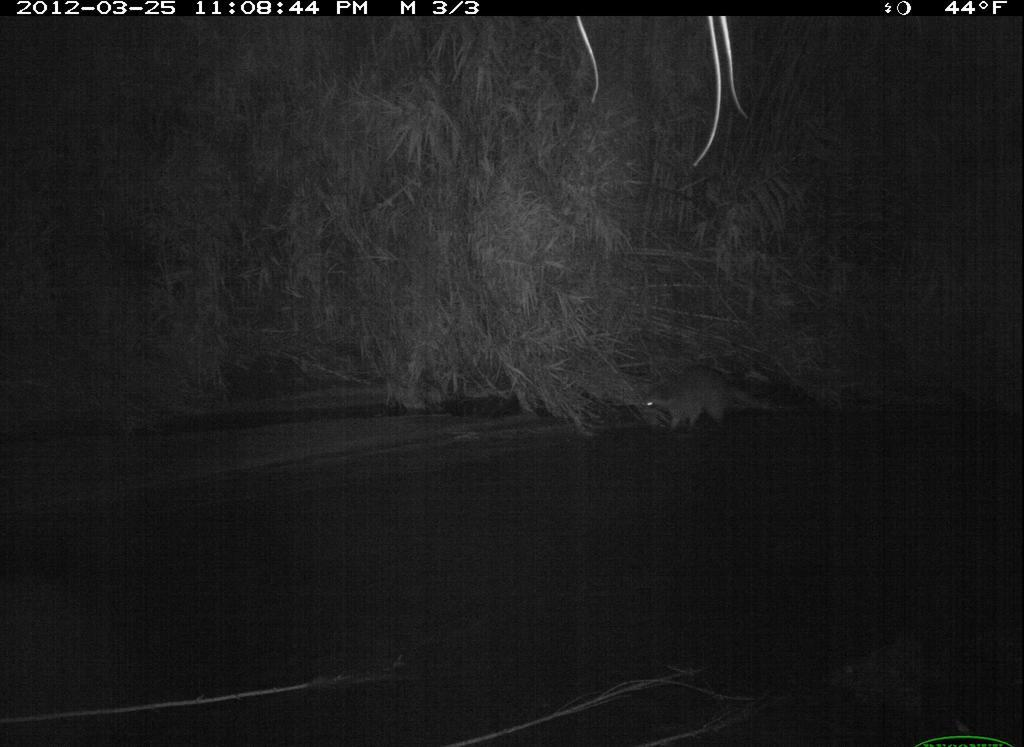raccoon: (632, 367, 802, 438)
